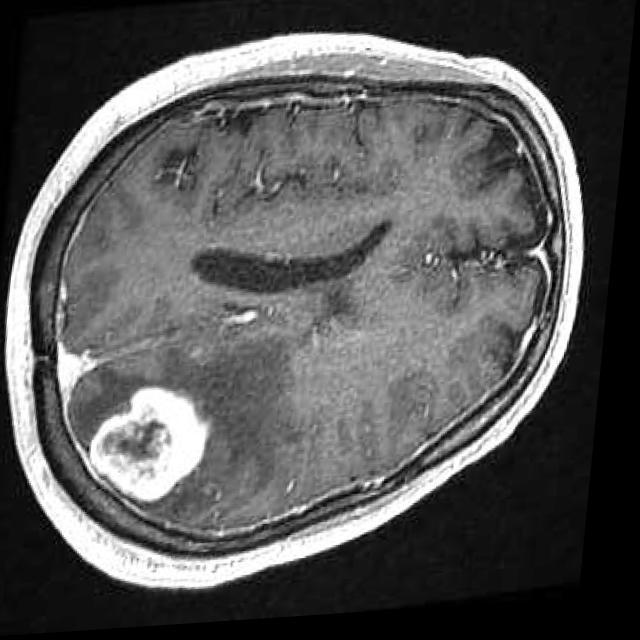Tumor: (103, 387, 215, 501)
